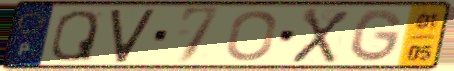7: (171, 4, 221, 67)
G: (349, 7, 406, 64)
O: (224, 9, 279, 63)
Q: (48, 8, 101, 63)
V: (108, 7, 159, 65)
X: (288, 7, 353, 65)
